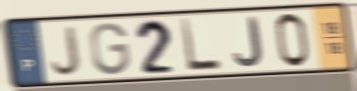0: (273, 11, 311, 69)
2: (134, 15, 182, 79)
G: (88, 20, 132, 77)
J: (49, 24, 83, 77), (232, 15, 265, 69)
L: (178, 16, 225, 74)
